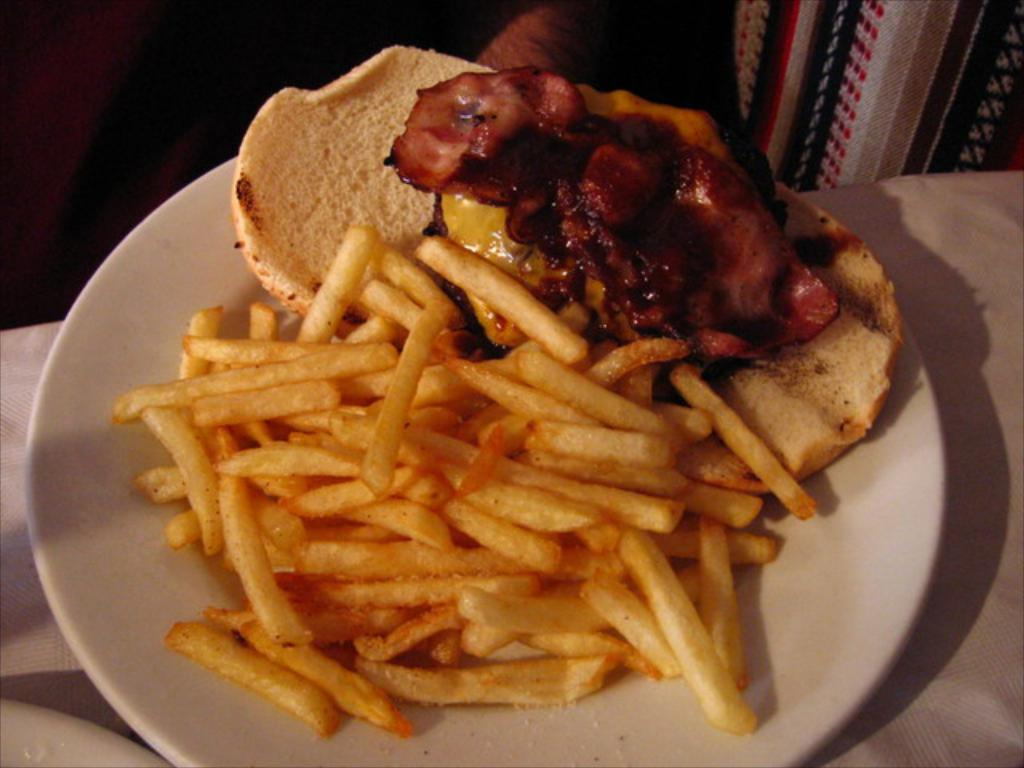French fries: (617, 524, 763, 742), (404, 422, 684, 532), (203, 595, 414, 729), (679, 351, 830, 528), (145, 619, 347, 740), (108, 339, 398, 423), (451, 360, 668, 465), (411, 233, 579, 355), (384, 464, 561, 576), (398, 444, 600, 536), (220, 420, 304, 639), (363, 294, 446, 497), (355, 654, 614, 708), (583, 563, 694, 681), (476, 441, 686, 499), (518, 351, 668, 432), (139, 396, 214, 552), (295, 537, 512, 580), (524, 627, 673, 687), (697, 510, 747, 687), (187, 374, 344, 427), (304, 224, 376, 334), (382, 235, 460, 331), (220, 432, 356, 478), (366, 595, 457, 663), (459, 590, 619, 628), (364, 275, 430, 356), (585, 339, 689, 387), (636, 526, 779, 558), (464, 625, 515, 656)
